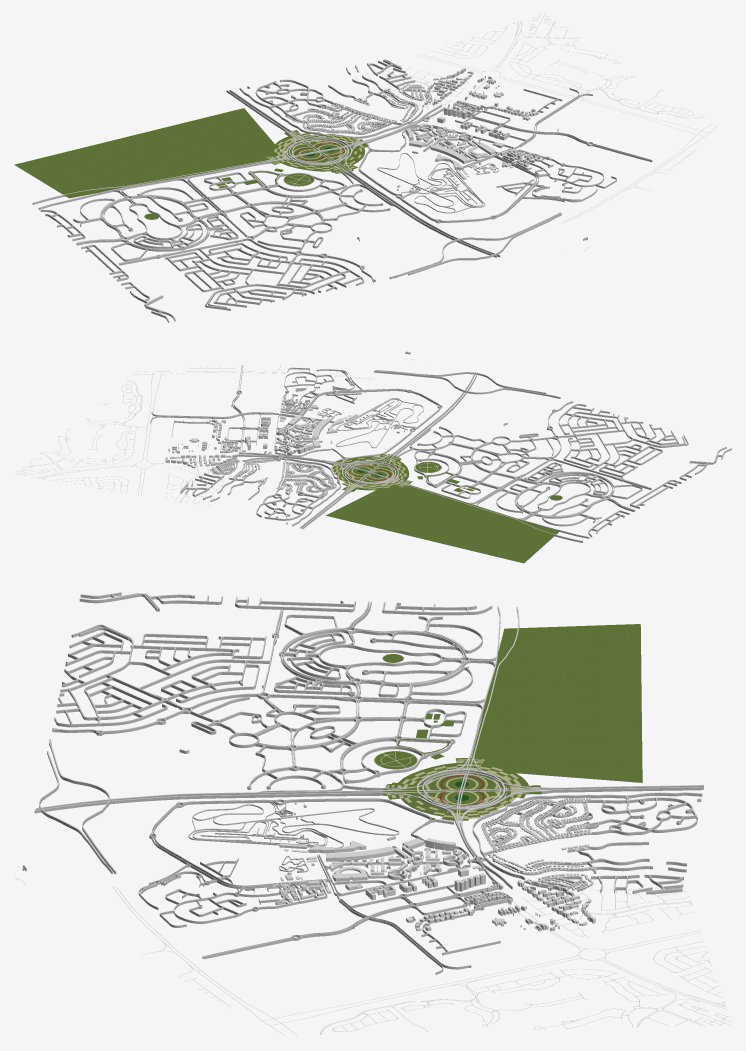
Rendered from Velos_mini_map.glb.
3 renders of one model, top to bottom at view 1: azimuth 30°, elevation 25°; view 2: azimuth 150°, elevation 25°; view 3: azimuth 270°, elevation 25°, orthographic. The views are drawn at different scales.
Visible parts, largest first — view 1: road, tree, build; view 2: road, tree, build; view 3: road, tree, build.
Part boxes in pixels (x1,y1,x2,y2): road: (32, 14, 717, 322); tree: (14, 108, 372, 219); build: (285, 68, 558, 190); road: (14, 351, 731, 542); tree: (326, 454, 562, 563); build: (165, 396, 404, 499); road: (14, 592, 731, 1035); tree: (374, 624, 642, 820); build: (272, 797, 595, 931).
Size of what is drawn, in the model's own units: 7492 by 184 by 5270.
Materials: 7 (1 with a texture image).
